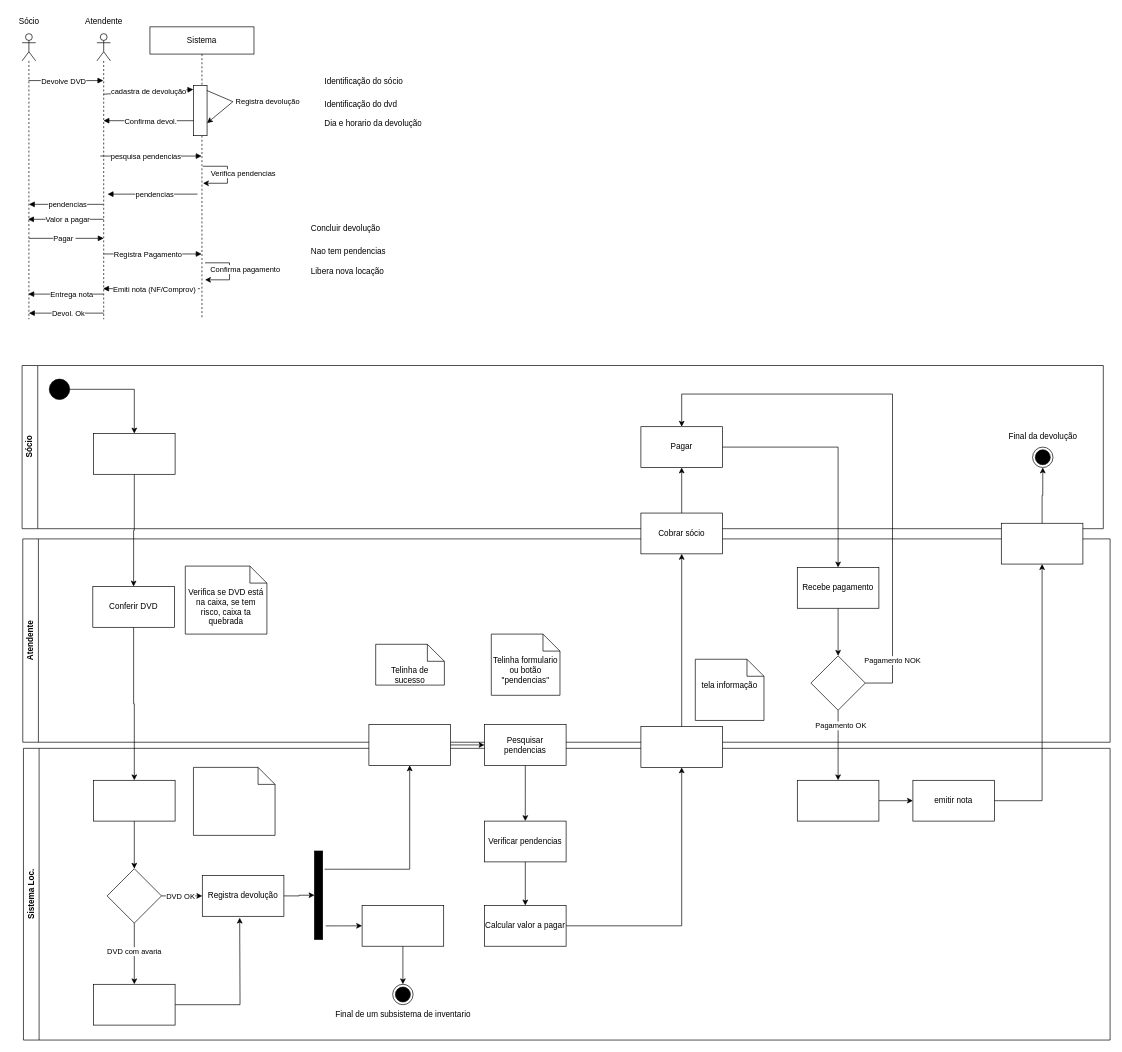
Some shapes in this 1122 by 1052 pixel diagram are drawn without their labels. Here are the shapes that lost their labels. From the top down, the centre of each, then its label:
At [134,453]: "Apresentar DVD para devolução".
At [1042,543]: "entrega nota pro cliente".
At [409,744]: "Informar devolução com sucesso".
At [681,746]: "informa pendencias e valor".
At [134,800]: "passar os dados do DVD para devolução".
At [234,801]: "Tela de seleção para devolução".
At [838,800]: "Registar pagamento".
At [402,925]: "Liberar DVD para nova locação".
At [134,1004]: "Registra pendencia na conta do sócio".
